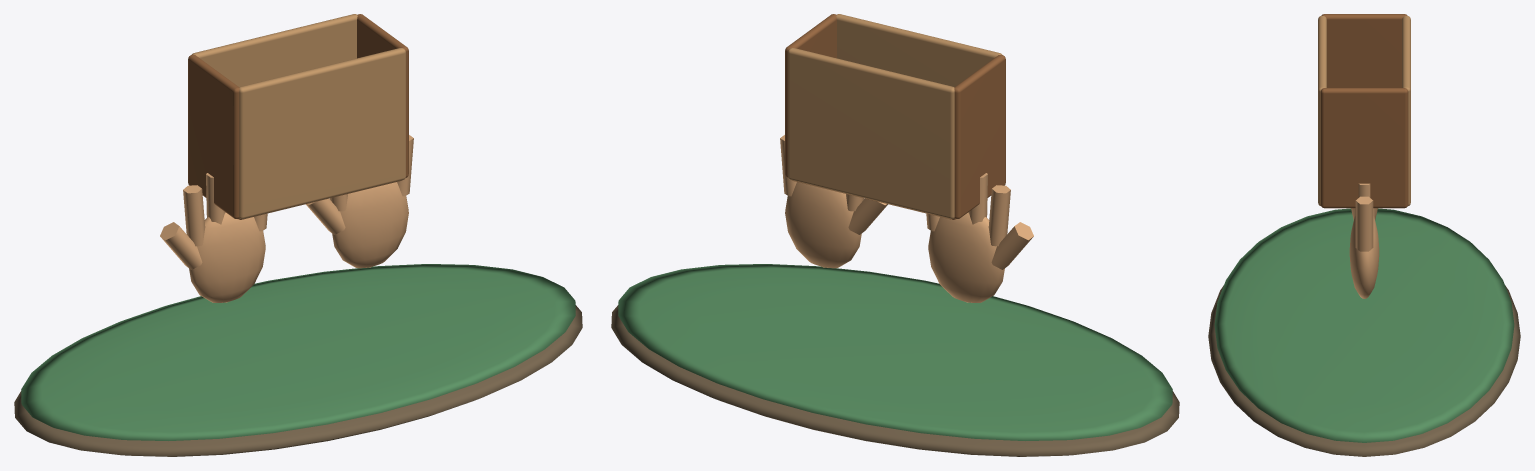
Rendered from lifting.glb.
3 renders of one model, left to right at view 1: azimuth 30°, elevation 25°; view 2: azimuth 150°, elevation 25°; view 3: azimuth 270°, elevation 25°, orthographic. The views are drawn at different scales.
Visible parts, largest first — view 1: lifting_surface_01, lifting_surface_02, lifting_surface_04, lifting_surface_00, lifting_surface_03; view 2: lifting_surface_01, lifting_surface_02, lifting_surface_04, lifting_surface_00, lifting_surface_03; view 3: lifting_surface_01, lifting_surface_03, lifting_surface_00, lifting_surface_04, lifting_surface_02.
Part boxes in pixels (x1=…): lifting_surface_01: x1=21, y1=264, x2=575, y2=440; lifting_surface_02: x1=191, y1=14, x2=405, y2=219; lifting_surface_04: x1=160, y1=135, x2=413, y2=302; lifting_surface_00: x1=14, y1=305, x2=582, y2=456; lifting_surface_03: x1=188, y1=14, x2=408, y2=219; lifting_surface_01: x1=618, y1=264, x2=1172, y2=440; lifting_surface_02: x1=788, y1=14, x2=1002, y2=219; lifting_surface_04: x1=780, y1=135, x2=1033, y2=302; lifting_surface_00: x1=611, y1=305, x2=1179, y2=456; lifting_surface_03: x1=785, y1=14, x2=1005, y2=219; lifting_surface_01: x1=1214, y1=208, x2=1514, y2=442; lifting_surface_03: x1=1320, y1=14, x2=1408, y2=208; lifting_surface_00: x1=1208, y1=285, x2=1520, y2=456; lifting_surface_04: x1=1349, y1=183, x2=1379, y2=298; lifting_surface_02: x1=1318, y1=16, x2=1410, y2=205.
Bounding box in the file's own units: 4.56 × 2.65 × 2.5.
